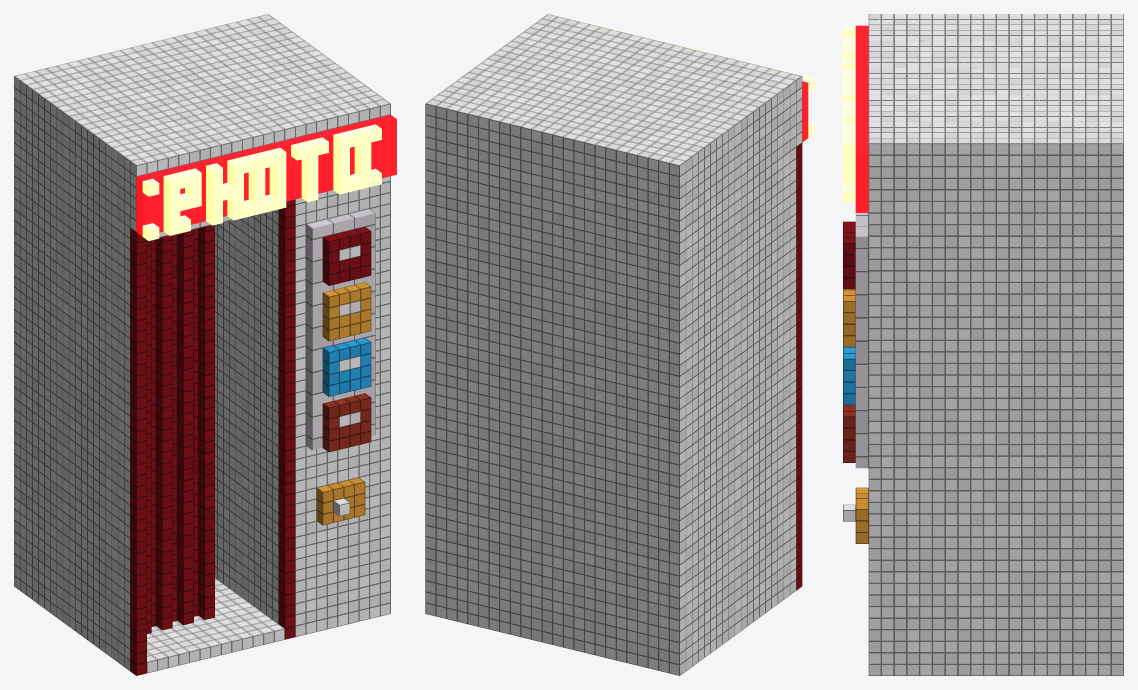
File: photo_booth.glb
3 renders of one model, left to right at view 1: azimuth 30°, elevation 25°; view 2: azimuth 150°, elevation 25°; view 3: azimuth 270°, elevation 25°, orthographic. The views are drawn at different scales.
Parts seen in each view (by area): view 1: photo_booth; view 2: photo_booth; view 3: photo_booth.
Part boxes in pixels (box(x1,y1,x2,y2)): photo_booth: box(14, 14, 396, 675); photo_booth: box(425, 14, 814, 675); photo_booth: box(843, 14, 1123, 675).
Size of the model in its own units: 1.2 by 2.3 by 1.1.
Materials: 12 (9 with a texture image).
